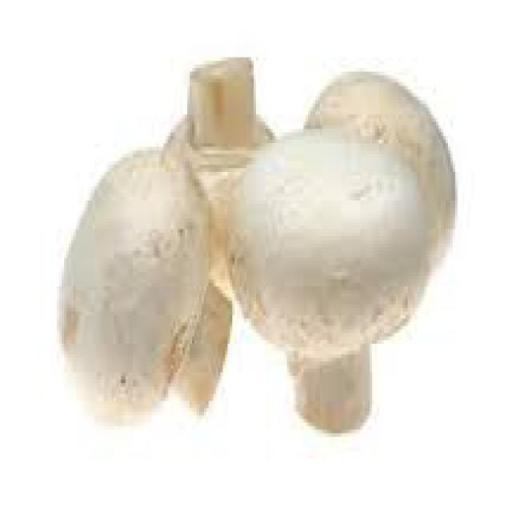Button Mushroom: (214, 143, 437, 431), (63, 143, 230, 422)
